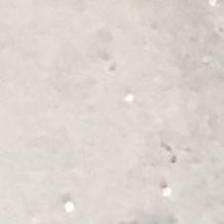Non_Crack: (24, 25, 207, 223)
